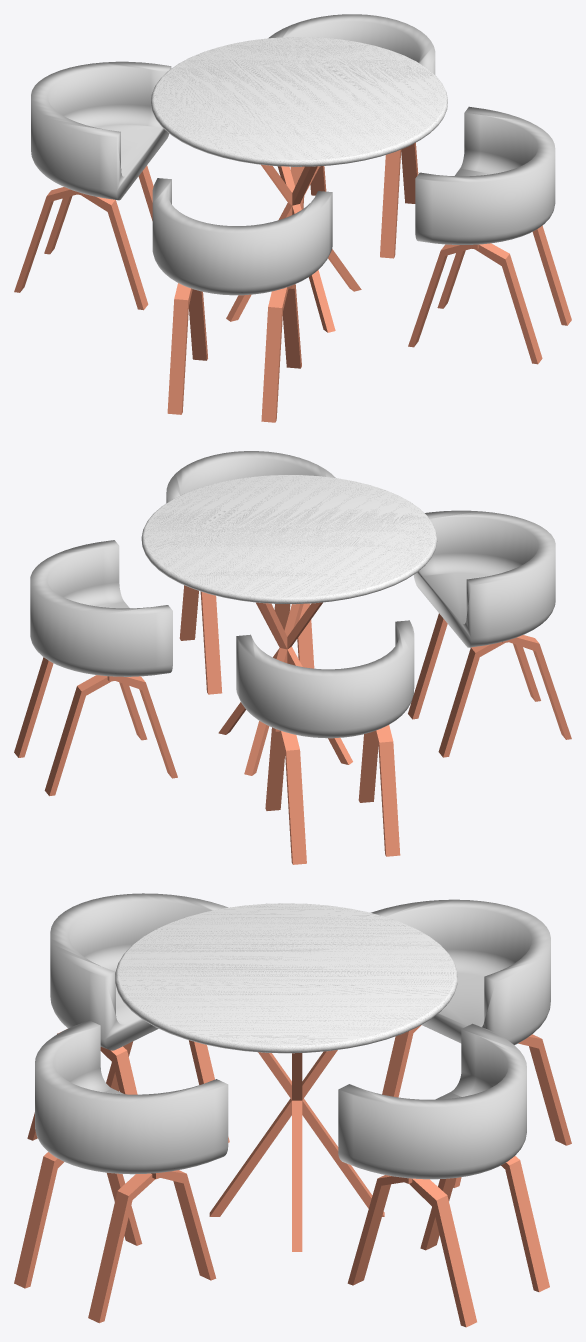
The picture shows the model from 3 angles, top to bottom: view 1: azimuth 30°, elevation 25°; view 2: azimuth 150°, elevation 25°; view 3: azimuth 270°, elevation 25°; orthographic projection. The views are drawn at different scales.
Visible parts, largest first — view 1: group_9 (×4), group_11, group_5 (×4), group_8 (×3), group_4 (×3), group_7 (×3), group_14, group_13; view 2: group_9 (×4), group_11, group_8 (×4), group_7 (×4), group_5 (×3), group_4 (×4), group_14, group_13; view 3: group_9 (×4), group_11, group_5 (×3), group_8 (×2), group_7 (×4), group_14, group_4 (×3), group_13.
Part boxes in pixels (box(x1,y1,x2,y2)): group_9 (×4): box(31, 14, 555, 295); group_11: box(151, 37, 447, 166); group_5 (×4): box(44, 142, 542, 414); group_8 (×3): box(14, 187, 571, 422); group_4 (×3): box(189, 149, 470, 360); group_7 (×3): box(81, 194, 465, 368); group_14: box(277, 166, 335, 332); group_13: box(226, 164, 361, 321); group_9 (×4): box(30, 451, 555, 738); group_11: box(141, 475, 437, 604); group_8 (×4): box(44, 585, 540, 856); group_7 (×4): box(116, 591, 447, 802); group_5 (×3): box(14, 635, 571, 864); group_4 (×4): box(119, 603, 504, 810); group_14: box(244, 603, 303, 775); group_13: box(218, 602, 352, 764); group_9 (×4): box(35, 893, 550, 1179); group_11: box(115, 903, 457, 1053); group_5 (×3): box(14, 1034, 571, 1327); group_8 (×2): box(88, 1156, 549, 1323); group_7 (×4): box(100, 1025, 455, 1280); group_14: box(209, 1050, 384, 1216); group_4 (×3): box(107, 1040, 403, 1285); group_13: box(292, 1053, 302, 1251).
Bounding box in the file's own units: 62.21 × 64.01 × 30.51.
